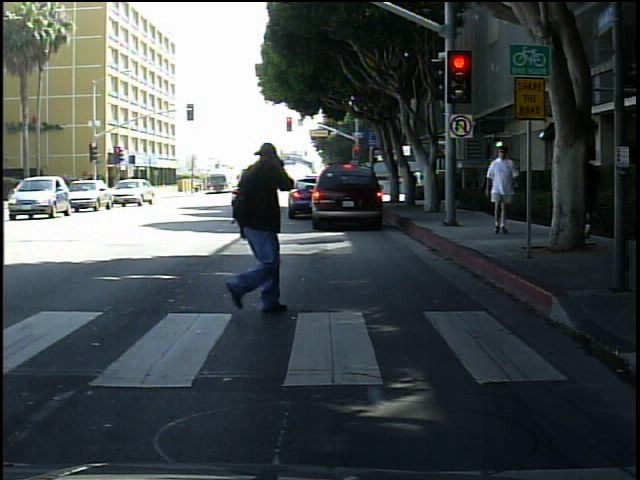person: (198, 123, 310, 337), (480, 145, 523, 240), (573, 137, 607, 246)
